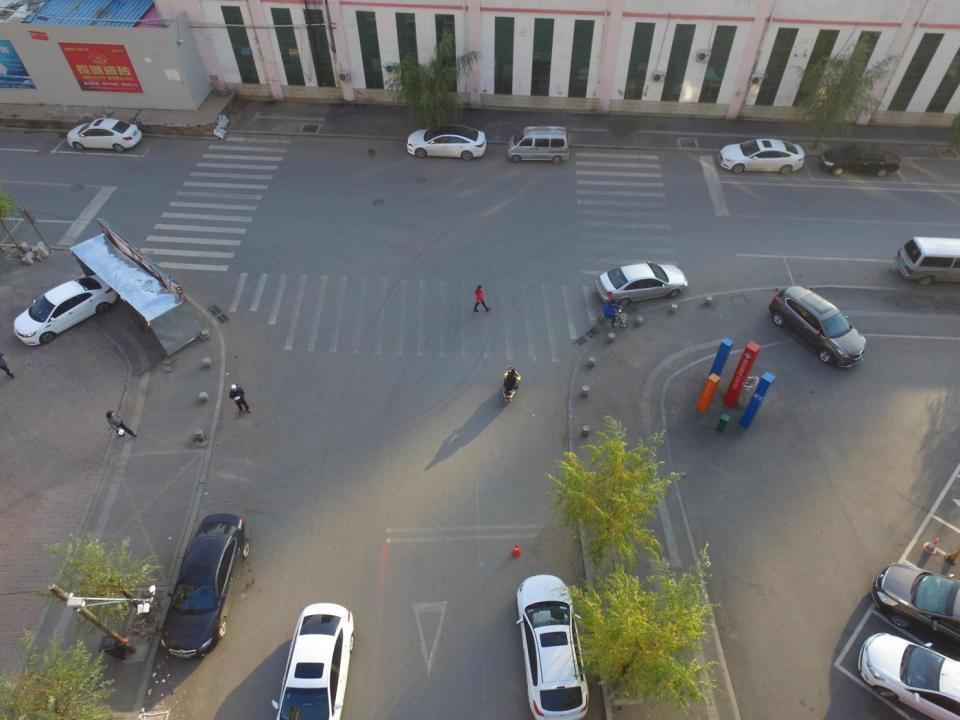car: (159, 512, 250, 660), (515, 573, 590, 720), (268, 601, 354, 720), (856, 631, 959, 720), (13, 269, 130, 347), (768, 284, 867, 369), (871, 561, 960, 646), (595, 260, 689, 308), (717, 137, 804, 176), (406, 124, 487, 161), (65, 116, 143, 154), (816, 143, 902, 177)
van: (893, 236, 960, 288), (506, 124, 569, 165)
